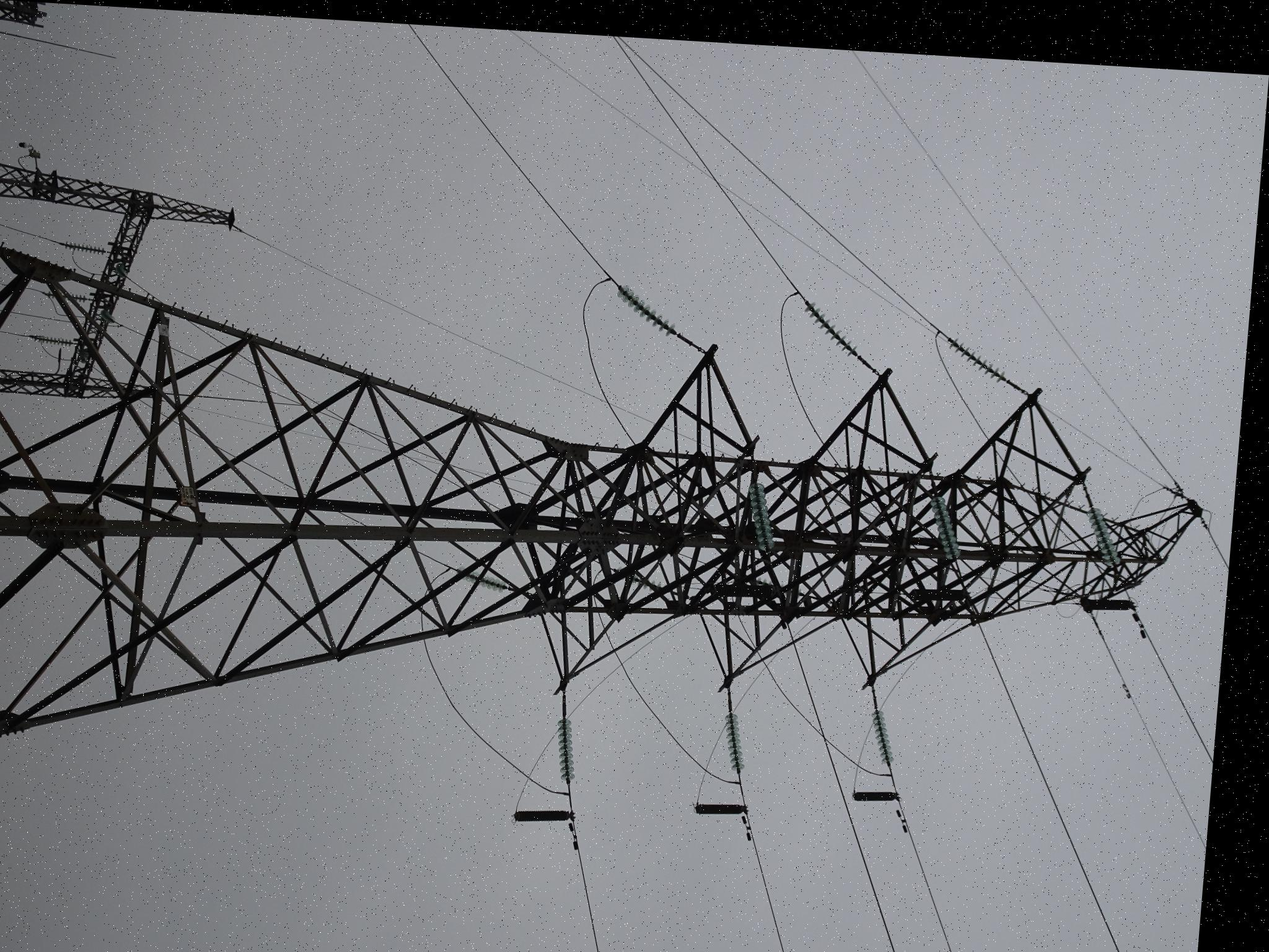tower: (106, 11, 721, 952)
